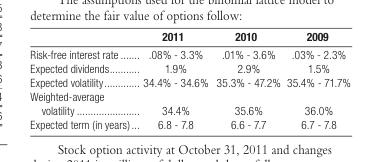table: (29, 29, 349, 130)
table column: (29, 29, 135, 130), (135, 29, 211, 130), (211, 29, 282, 130), (282, 29, 349, 130)
table column header: (29, 29, 349, 45)
table row: (29, 89, 349, 117), (29, 29, 349, 45), (29, 45, 349, 61), (29, 61, 349, 75), (29, 75, 349, 89), (29, 117, 349, 130)
